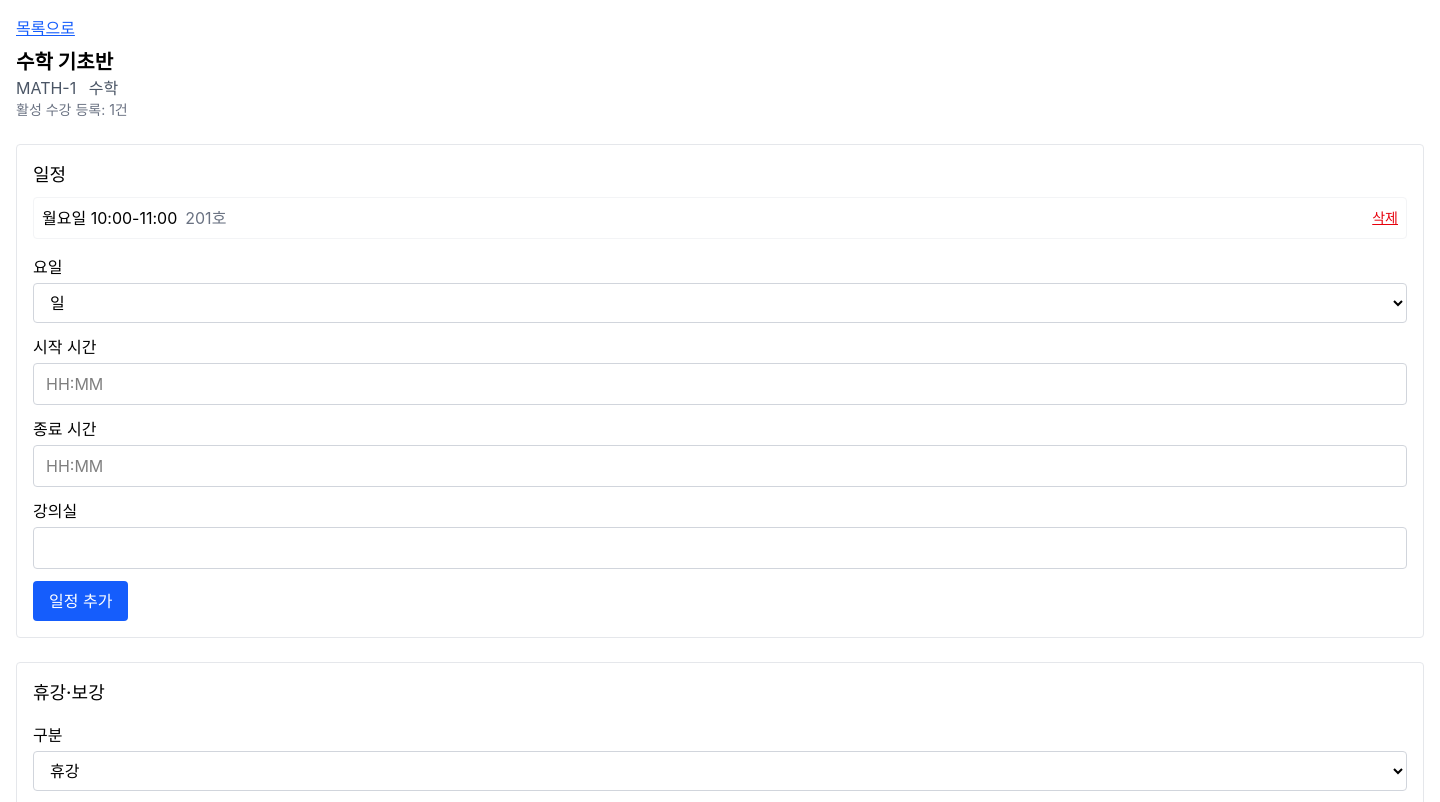
Test: CourseDetailPage › adds a schedule via the inline form
The image size is (1440, 802).
Check: the heading "수학 기초반" is shown, box [16,50,113,74]
Select "수" in the dropdown labelled "요일" at (720,303), box [33,283,1407,323]
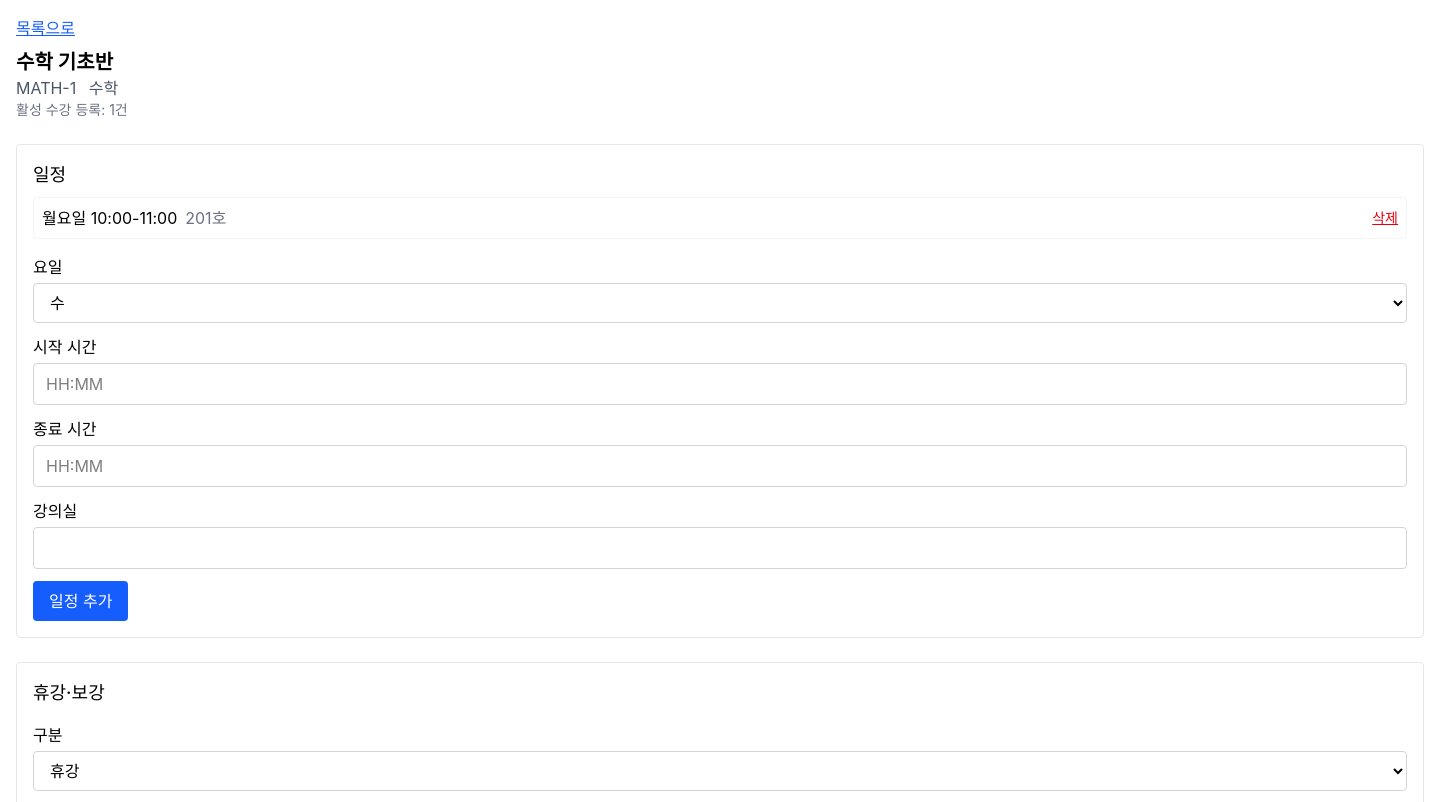
Type "14:00" into the field labelled "시작 시간" at (720,384), box [33,363,1407,405]
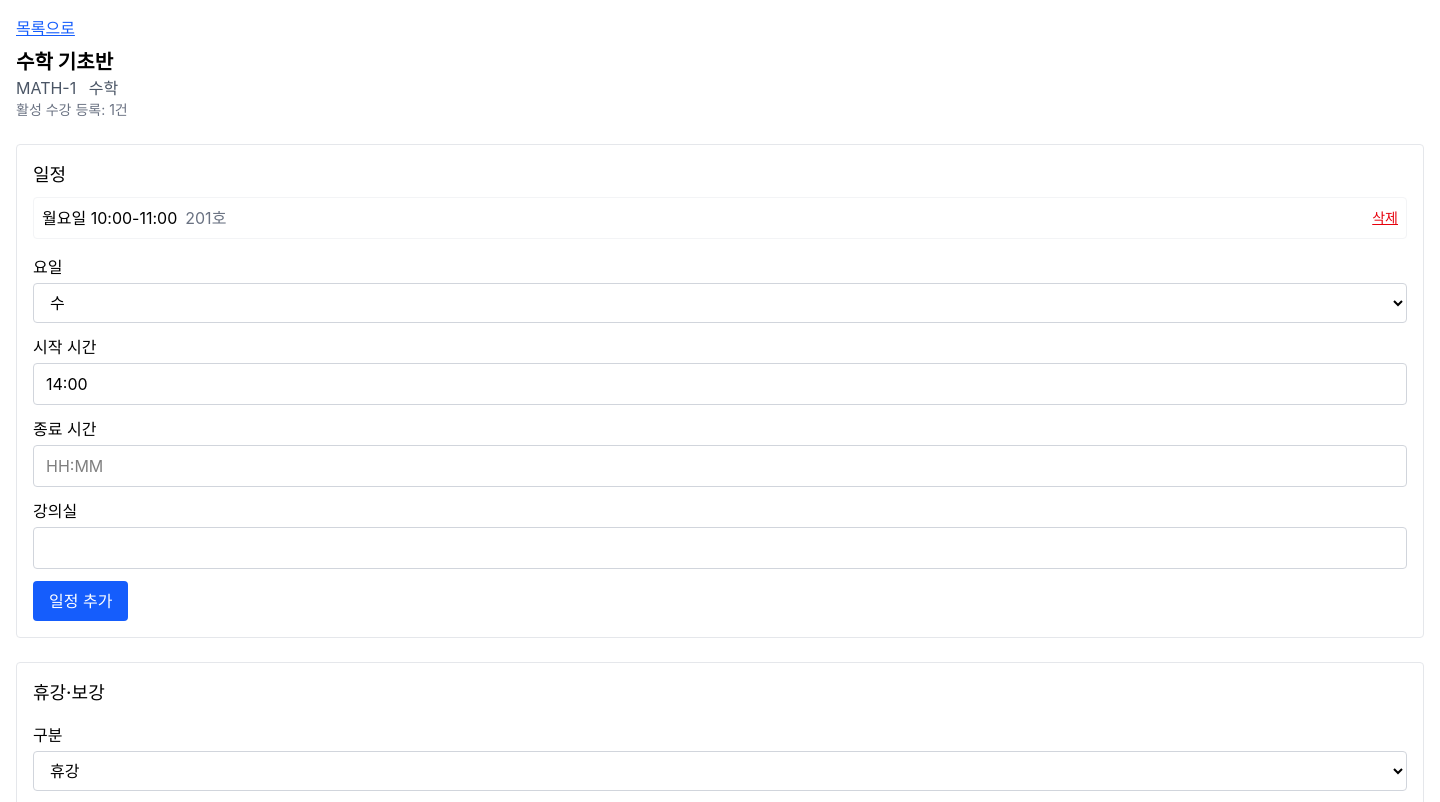
Type "15:00" into the field labelled "종료 시간" at (720,466), box [33,445,1407,487]
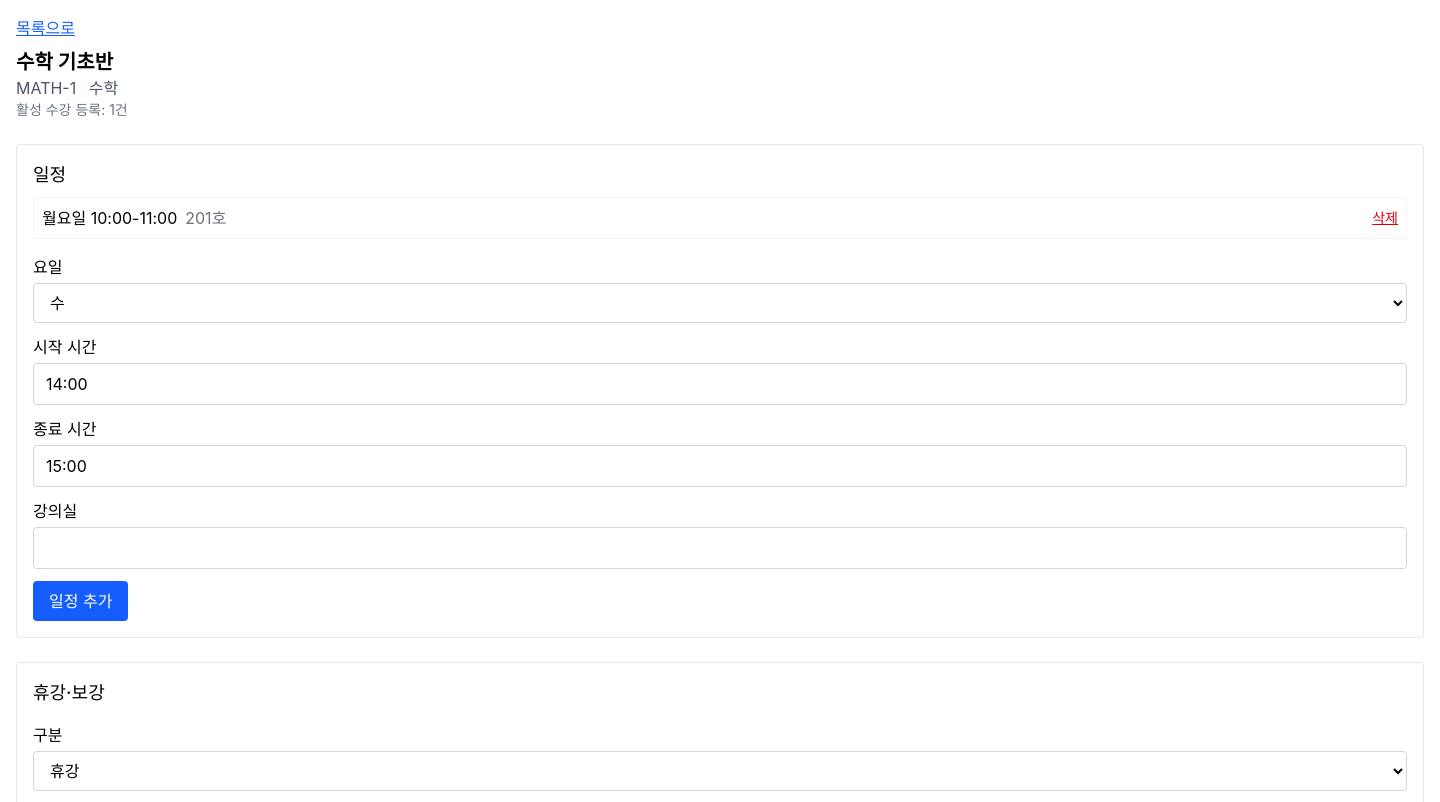
Type "302호" into the field labelled "강의실" at (720,548), box [33,527,1407,569]
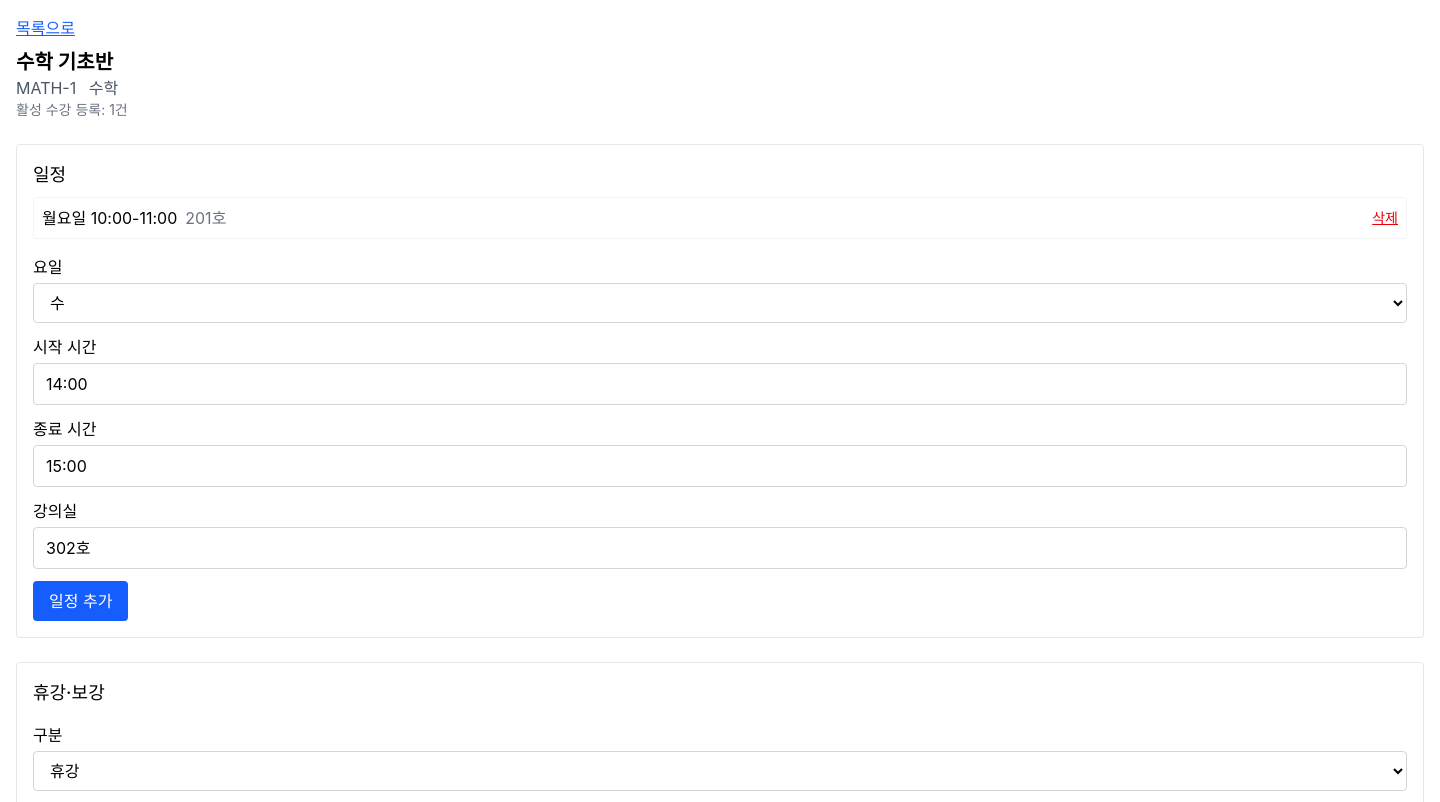
Click the button "일정 추가" at (81,601), box [33,581,128,621]
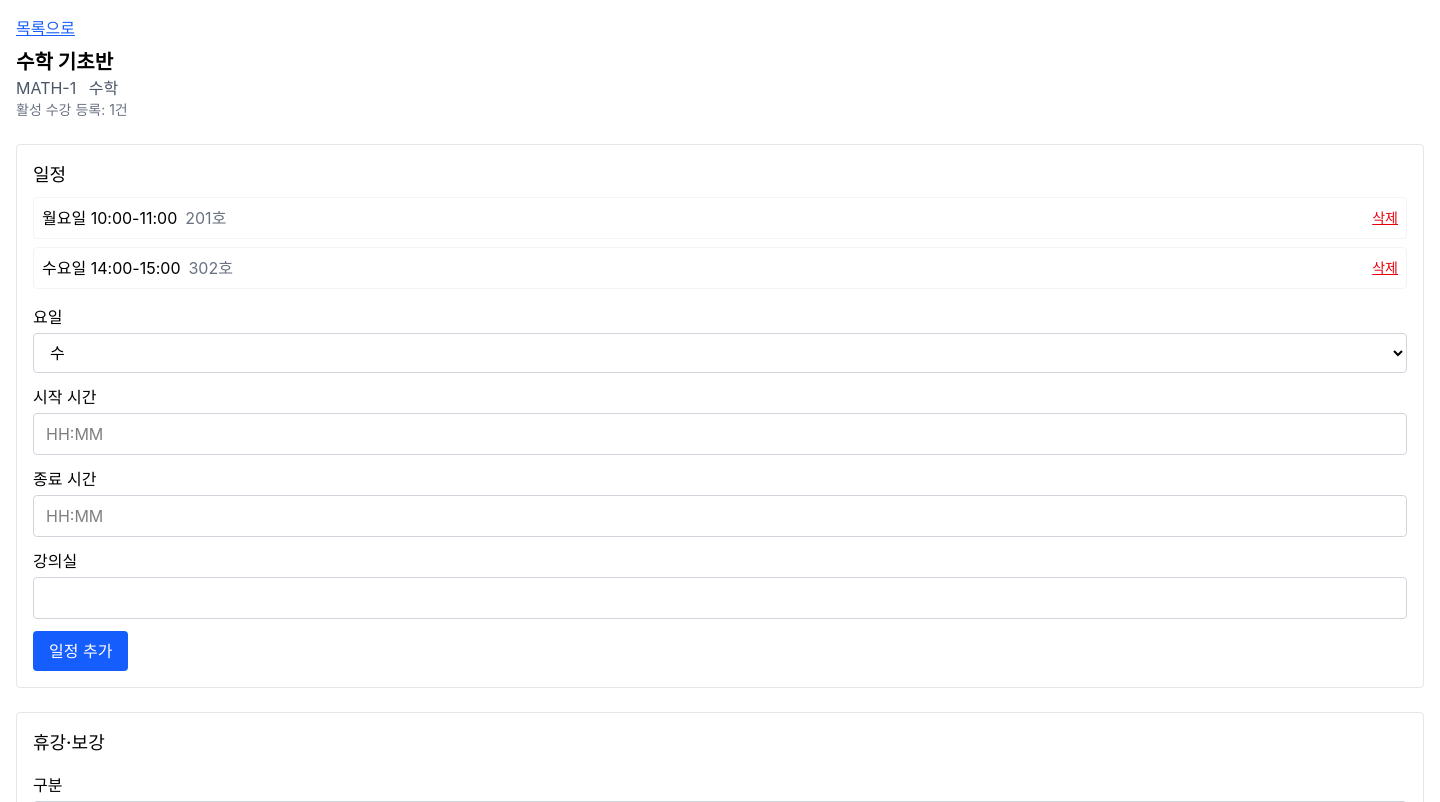
Check: the text "302호" is shown, box [188,258,233,278]
